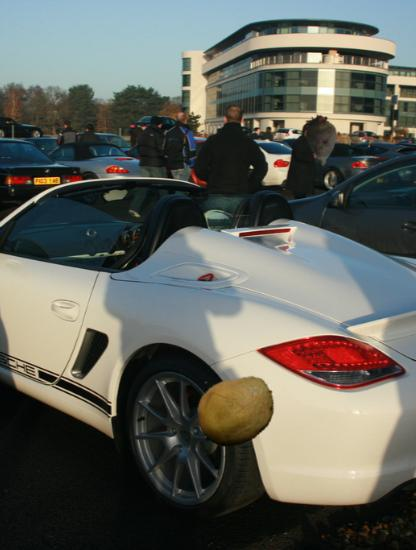Beetroot: (295, 113, 349, 167)
Papaya: (197, 371, 278, 452)
